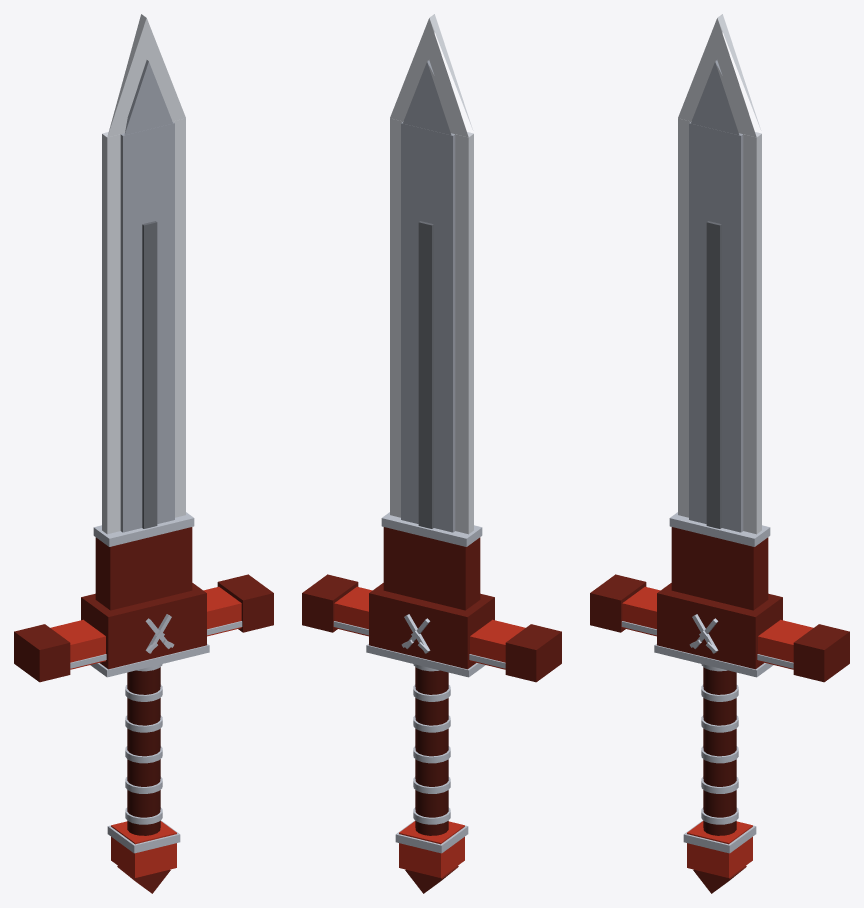
The picture shows the model from 3 angles, left to right: view 1: azimuth 30°, elevation 25°; view 2: azimuth 150°, elevation 25°; view 3: azimuth 330°, elevation 25°; orthographic projection.
Visible parts, largest first — view 1: warden-cleaver; view 2: warden-cleaver; view 3: warden-cleaver.
Boxes of the visible parts, box(x1,y1,x2,y2) form: warden-cleaver: box(14, 14, 273, 893); warden-cleaver: box(302, 14, 561, 893); warden-cleaver: box(590, 14, 849, 893).
Size of the model in its own units: 0.4049 by 1.44 by 0.1025.
